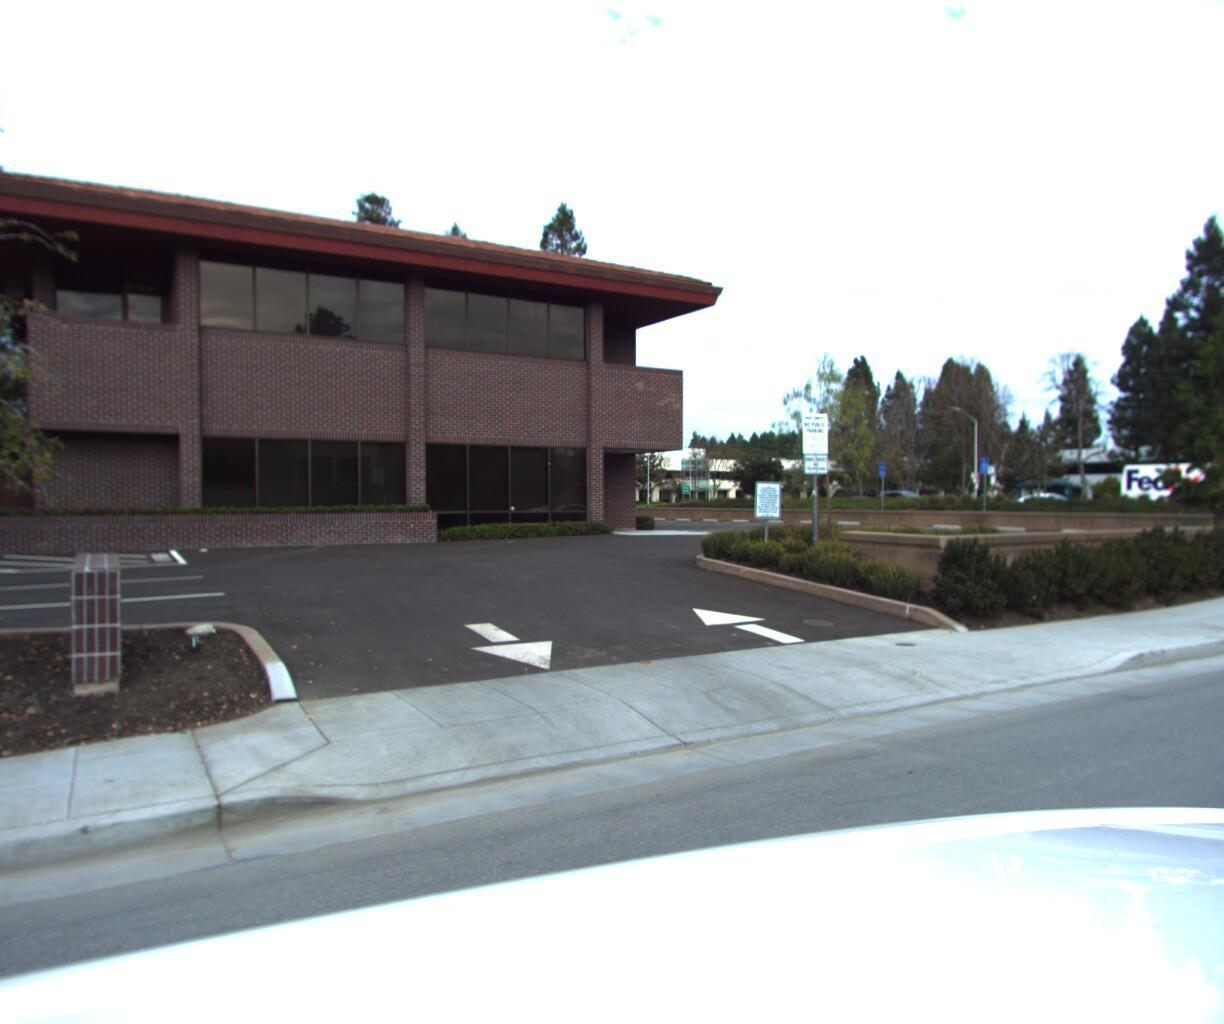car: (996, 484, 1101, 515)
truck: (1118, 451, 1224, 511)
